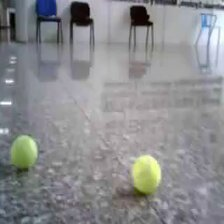tennis: (131, 155, 161, 191), (10, 135, 38, 166)
